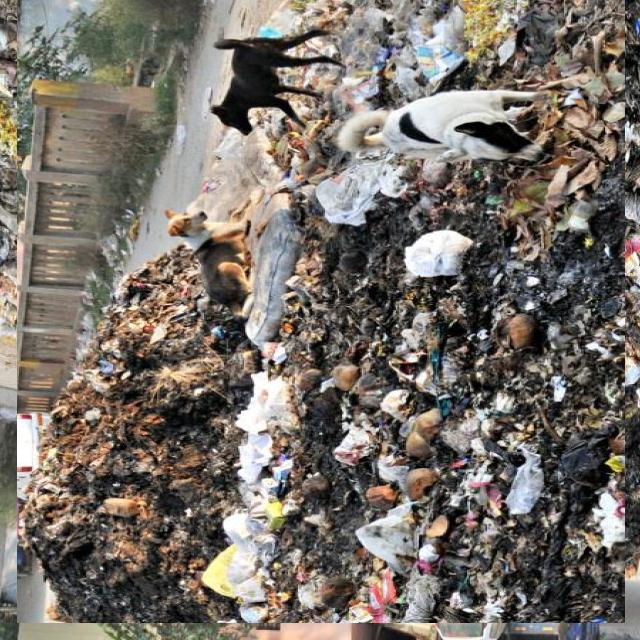garbage: (10, 0, 633, 616)
